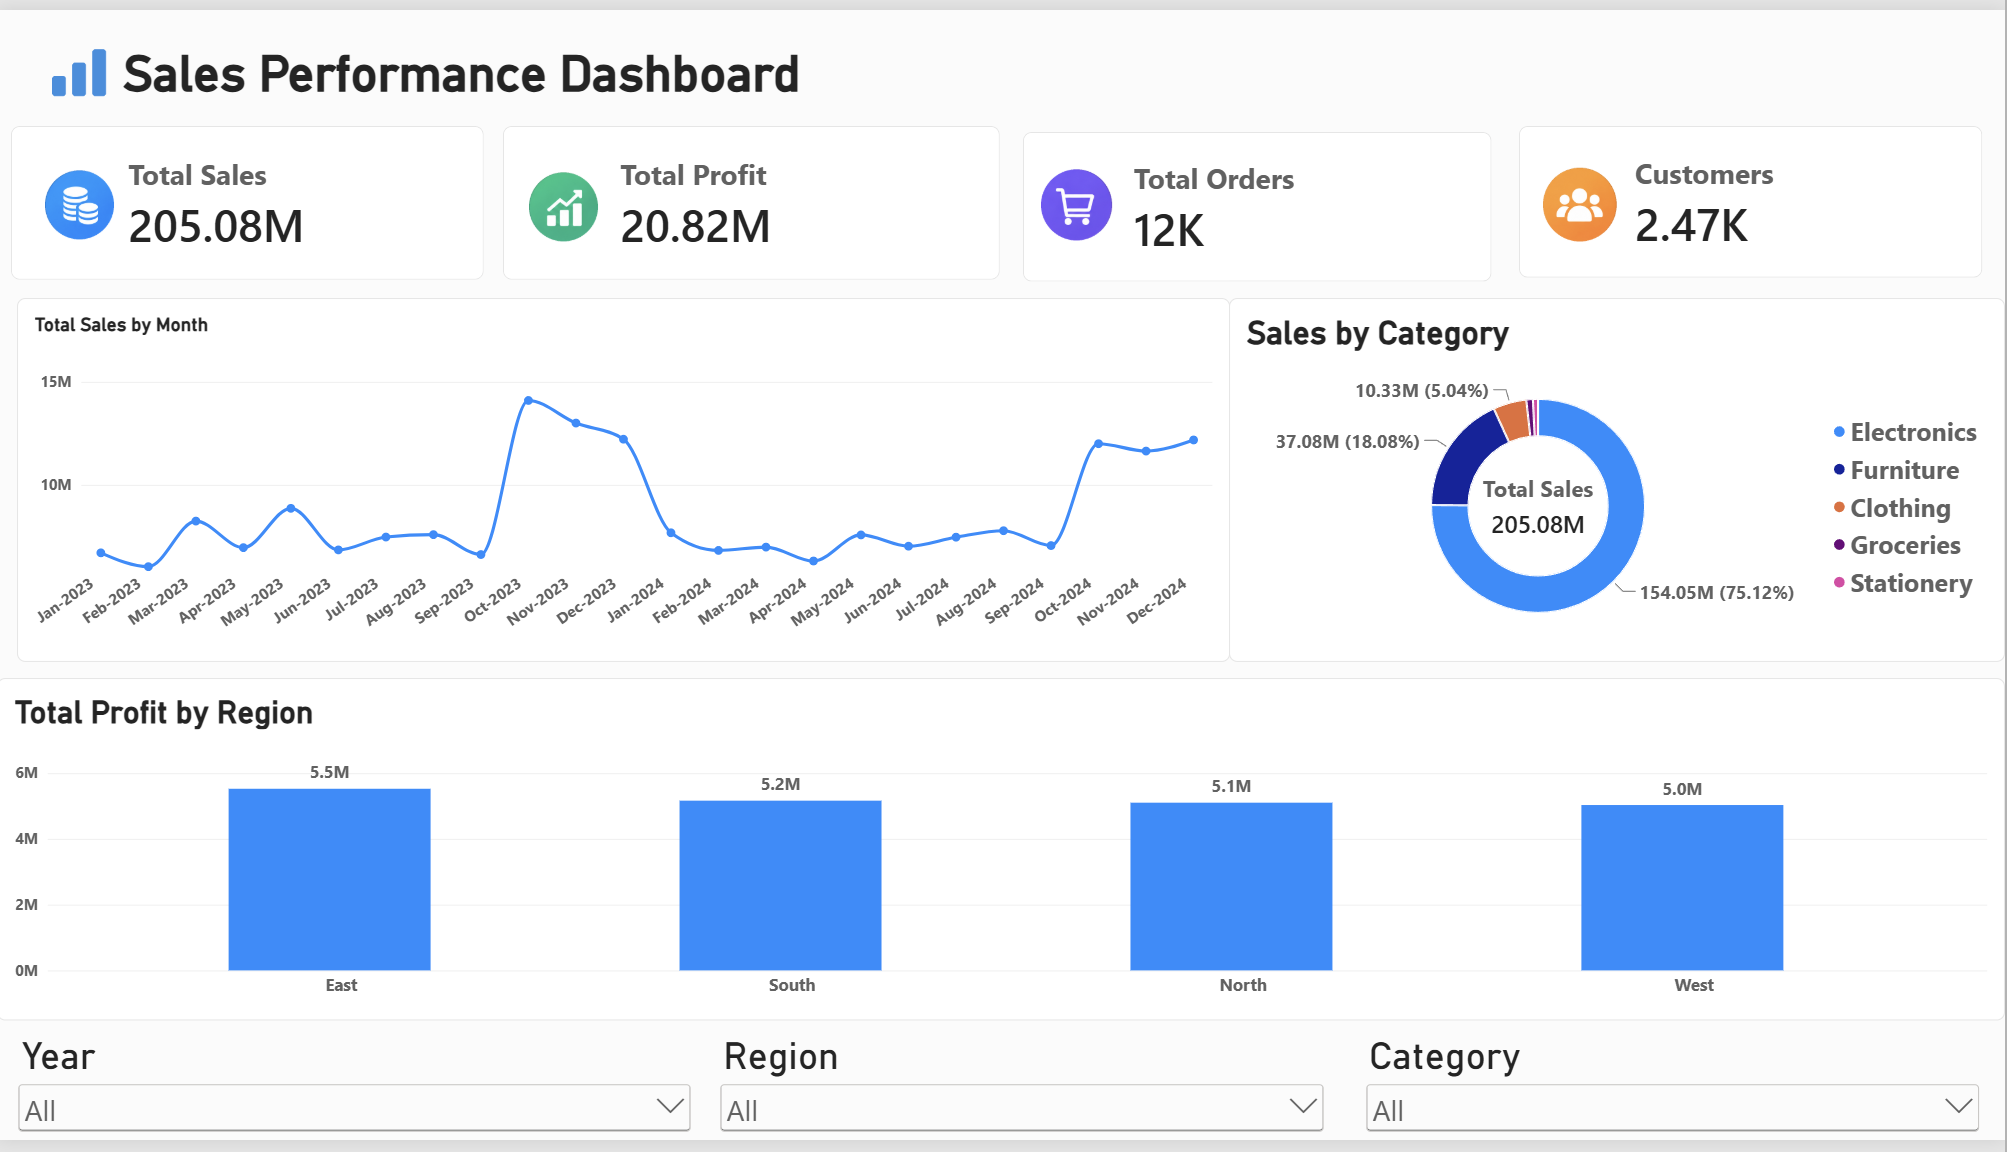

Layout of this report page (visuals, bound fields, positions):
{"tool":"powerbi","page":{"name":"Executive overview","canvas":[1920,1080],"ordinal":0},"visuals":[{"type":"cardVisual","fields":{"Data":["Sum(Retail_Sales_Raw_Data.Sales)"]},"box":[13.6,111.5,452.7,147.9],"z":0},{"type":"cardVisual","fields":{"Data":["Sum(Retail_Sales_Raw_Data.Profit)"]},"box":[484.5,111.5,475.5,147.9],"z":1000},{"type":"cardVisual","fields":{"Data":["CountNonNull(Retail_Sales_Raw_Data.Order_ID)"]},"box":[980.5,116,448.2,143.3],"z":2000},{"type":"cardVisual","fields":{"Data":["Count(Retail_Sales_Raw_Data.Customer_ID)"]},"box":[1455.9,111.5,443.6,145.6],"z":3000},{"type":"lineChart","title":"Total Sales by Month","fields":{"Category":["DateTable.MonthYear"],"Y":["Sum(Retail_Sales_Raw_Data.Sales)"]},"box":[18.2,275.3,1160.2,348.1],"z":4000},{"type":"clusteredColumnChart","title":"Total Profit by Region","fields":{"Category":["Retail_Sales_Raw_Data.Region"],"Y":["Sum(Retail_Sales_Raw_Data.Profit)"]},"box":[0,639.2,1920,327.6],"z":5000},{"type":"donutChart","title":"Sales by Category","fields":{"Category":["Retail_Sales_Raw_Data.Category"],"Y":["Sum(Retail_Sales_Raw_Data.Sales)"]},"box":[1178.4,275.3,742,348],"z":6000},{"type":"slicer","fields":{"Values":["DateTable.Year"]},"box":[15.9,978.2,652.9,106.9],"z":7000},{"type":"slicer","fields":{"Values":["Retail_Sales_Raw_Data.Region"]},"box":[687,978.2,586.9,102.4],"z":8000},{"type":"slicer","fields":{"Values":["Retail_Sales_Raw_Data.Category"]},"box":[1303.5,978.2,596,102.4],"z":9000},{"type":"image","box":[45.5,145.6,66,81.9],"z":10000},{"type":"image","box":[509.6,147.9,66,81.9],"z":11000},{"type":"image","box":[998.7,145.6,68.2,81.9],"z":12000},{"type":"image","box":[1478.7,145.6,70.5,81.9],"z":13000},{"type":"image","box":[36.4,25,84.2,63.7],"z":13001},{"type":"textbox","title":"Sales Performance Dashboard","box":[120.6,31.8,1073.7,47.8],"z":13002}]}

Visuals, with their boxes in screenshot pixels (x1, y1, x2, y2), scaled from the page's 1920x1080 canvas onto the 2012x1152 screenshot:
cardVisual - Sum(Retail_Sales_Raw_Data.Sales): pyautogui.locateOnScreen(14, 119, 489, 277)
cardVisual - Sum(Retail_Sales_Raw_Data.Profit): pyautogui.locateOnScreen(508, 119, 1006, 277)
cardVisual - CountNonNull(Retail_Sales_Raw_Data.Order_ID): pyautogui.locateOnScreen(1027, 124, 1497, 277)
cardVisual - Count(Retail_Sales_Raw_Data.Customer_ID): pyautogui.locateOnScreen(1526, 119, 1991, 274)
"Total Sales by Month" lineChart: pyautogui.locateOnScreen(19, 294, 1235, 665)
"Total Profit by Region" clusteredColumnChart: pyautogui.locateOnScreen(0, 682, 2011, 1031)
"Sales by Category" donutChart: pyautogui.locateOnScreen(1235, 294, 2011, 665)
slicer - DateTable.Year: pyautogui.locateOnScreen(17, 1043, 701, 1151)
slicer - Retail_Sales_Raw_Data.Region: pyautogui.locateOnScreen(720, 1043, 1335, 1151)
slicer - Retail_Sales_Raw_Data.Category: pyautogui.locateOnScreen(1366, 1043, 1991, 1151)
image: pyautogui.locateOnScreen(48, 155, 117, 243)
image: pyautogui.locateOnScreen(534, 158, 603, 245)
image: pyautogui.locateOnScreen(1047, 155, 1118, 243)
image: pyautogui.locateOnScreen(1550, 155, 1623, 243)
image: pyautogui.locateOnScreen(38, 27, 126, 95)
"Sales Performance Dashboard" textbox: pyautogui.locateOnScreen(126, 34, 1252, 85)
